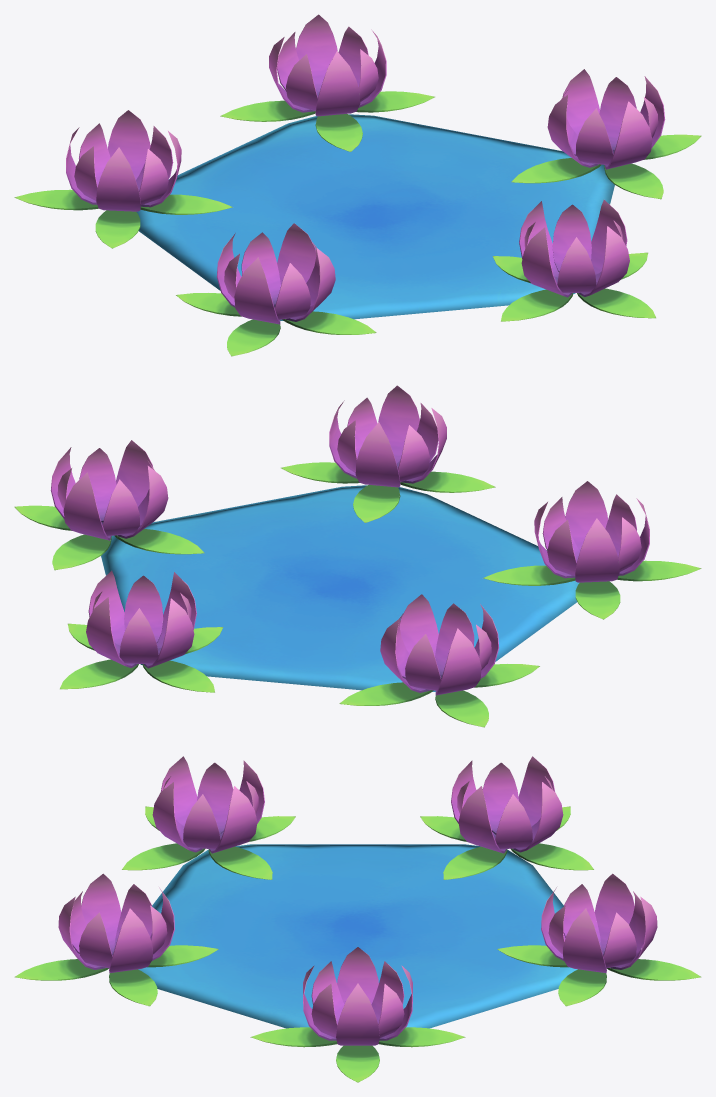
The model's file is Pond.obj.
The picture shows the model from 3 angles, top to bottom: view 1: azimuth 30°, elevation 25°; view 2: azimuth 150°, elevation 25°; view 3: azimuth 270°, elevation 25°; orthographic projection. The views are drawn at different scales.
Visible parts, largest first — view 1: Pond_Smooth, Flower_Arranged2 Petals Leaf_Curved1, Flower_Arranged1 Petals Leaf_Curved2, Flower_Arranged3 Leaf_Curved Petals, Flower_Arranged1 Leaf_Curved Petals, Flower_Arranged Petals Leaf_Curved3, Flower_Arranged2 Petals Leaf_Curved3, Flower_Arranged4 Petals_Inner Leaf_Curved3, Flower_Arranged3 Petals Leaf_Curved2, Flower_Arranged4 Petals_Inner Leaf_Curved1, Flower_Arranged4 Petals Leaf_Curved3, Flower_Arranged Petals_Inner Leaf_Curved2 (+36 smaller); view 2: Pond_Smooth, Flower_Arranged3 Petals Leaf_Curved3, Flower_Arranged4 Petals Leaf_Curved2, Flower_Arranged2 Leaf_Curved Petals, Flower_Arranged4 Leaf_Curved Petals, Flower_Arranged Petals Leaf_Curved1, Flower_Arranged3 Petals Leaf_Curved1, Flower_Arranged1 Leaf_Curved Petals_Inner, Flower_Arranged2 Petals Leaf_Curved2, Flower_Arranged1 Petals_Inner Leaf_Curved2, Flower_Arranged1 Petals Leaf_Curved1, Flower_Arranged Petals_Inner Leaf_Curved1 (+36 smaller); view 3: Pond_Smooth, Flower_Arranged Leaf_Curved Petals, Flower_Arranged1 Petals Leaf_Curved3, Flower_Arranged4 Petals Leaf_Curved1, Flower_Arranged4 Petals Leaf_Curved3, Flower_Arranged1 Petals Leaf_Curved1, Flower_Arranged2 Petals Leaf_Curved2, Flower_Arranged3 Petals Leaf_Curved2, Flower_Arranged Petals Leaf_Curved2, Flower_Arranged2 Leaf_Curved Petals_Inner, Flower_Arranged2 Petals_Inner Leaf_Curved2, Flower_Arranged3 Petals_Inner Leaf_Curved1 (+38 smaller).
Part boxes in pixels (<box>): Pond_Smooth: <box>136,114,614,320</box>; Flower_Arranged2 Petals Leaf_Curved1: <box>96,147,140,211</box>; Flower_Arranged1 Petals Leaf_Curved2: <box>315,51,360,116</box>; Flower_Arranged3 Leaf_Curved Petals: <box>234,257,280,324</box>; Flower_Arranged1 Leaf_Curved Petals: <box>296,14,337,92</box>; Flower_Arranged Petals Leaf_Curved3: <box>604,101,652,169</box>; Flower_Arranged2 Petals Leaf_Curved3: <box>108,110,150,180</box>; Flower_Arranged4 Petals_Inner Leaf_Curved3: <box>557,237,596,292</box>; Flower_Arranged3 Petals Leaf_Curved2: <box>277,223,316,285</box>; Flower_Arranged4 Petals_Inner Leaf_Curved1: <box>552,204,591,272</box>; Flower_Arranged4 Petals Leaf_Curved3: <box>521,227,572,297</box>; Flower_Arranged Petals_Inner Leaf_Curved2: <box>576,108,613,165</box>; Pond_Smooth: <box>101,485,579,691</box>; Flower_Arranged3 Petals Leaf_Curved3: <box>575,518,619,582</box>; Flower_Arranged4 Petals Leaf_Curved2: <box>355,422,400,487</box>; Flower_Arranged2 Leaf_Curved Petals: <box>435,628,481,695</box>; Flower_Arranged4 Leaf_Curved Petals: <box>378,385,419,463</box>; Flower_Arranged Petals Leaf_Curved1: <box>63,472,111,540</box>; Flower_Arranged3 Petals Leaf_Curved1: <box>565,481,607,551</box>; Flower_Arranged1 Leaf_Curved Petals_Inner: <box>119,608,158,663</box>; Flower_Arranged2 Petals Leaf_Curved2: <box>399,594,438,656</box>; Flower_Arranged1 Petals_Inner Leaf_Curved2: <box>124,575,163,643</box>; Flower_Arranged1 Petals Leaf_Curved1: <box>143,598,194,668</box>; Flower_Arranged Petals_Inner Leaf_Curved1: <box>102,479,139,536</box>; Pond_Smooth: <box>138,844,577,1028</box>; Flower_Arranged Leaf_Curved Petals: <box>336,983,379,1045</box>; Flower_Arranged1 Petals Leaf_Curved3: <box>563,908,606,973</box>; Flower_Arranged4 Petals Leaf_Curved1: <box>109,908,152,973</box>; Flower_Arranged4 Petals Leaf_Curved3: <box>81,873,121,953</box>; Flower_Arranged1 Petals Leaf_Curved1: <box>594,873,634,953</box>; Flower_Arranged2 Petals Leaf_Curved2: <box>458,786,506,853</box>; Flower_Arranged3 Petals Leaf_Curved2: <box>209,786,257,853</box>; Flower_Arranged Petals Leaf_Curved2: <box>337,947,378,1004</box>; Flower_Arranged2 Leaf_Curved Petals_Inner: <box>482,762,518,834</box>; Flower_Arranged2 Petals_Inner Leaf_Curved2: <box>495,794,532,849</box>; Flower_Arranged3 Petals_Inner Leaf_Curved1: <box>183,794,220,849</box>.
Size of the model in its own units: 13.01 by 1.85 by 13.68.
Materials: 1 (1 with a texture image).
